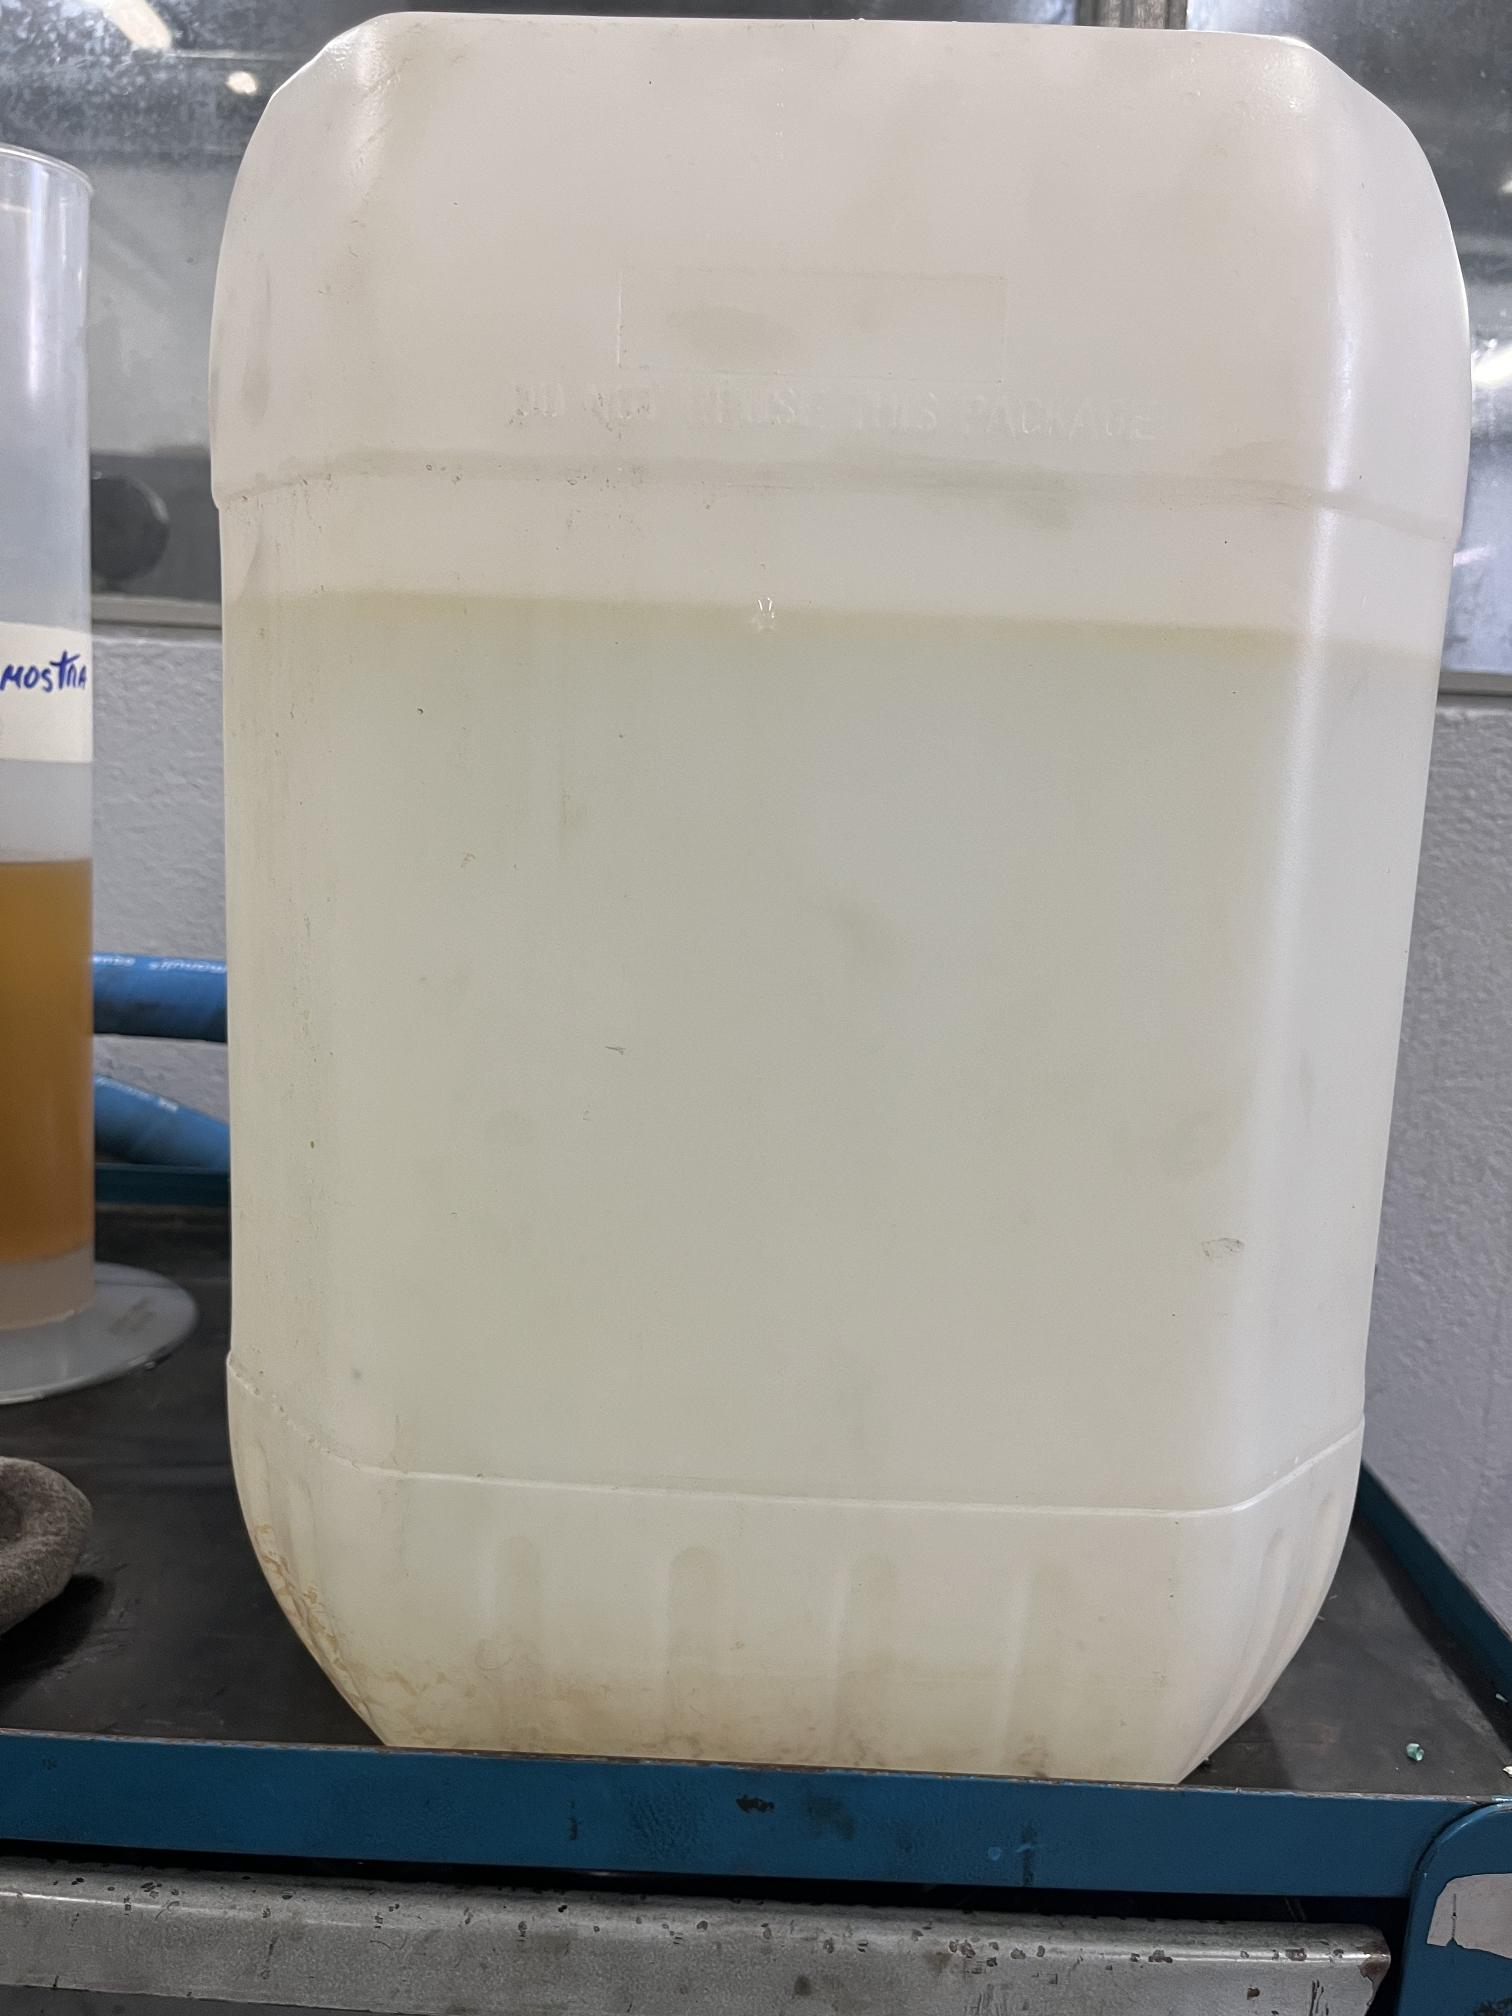Galao: (162, 78, 1482, 1779)
